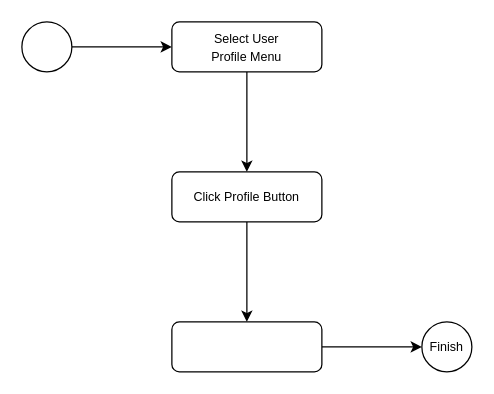
The diagram is 494 pixels wide and 394 high, and some of its shapes have lost their labels. The shapes that lost their labels are listed below. From the top down, each one's centre as x and y in pixels, then its label:
At (x=46, y=46): "Start".
At (x=246, y=346): "Click Delete Profile Button".
